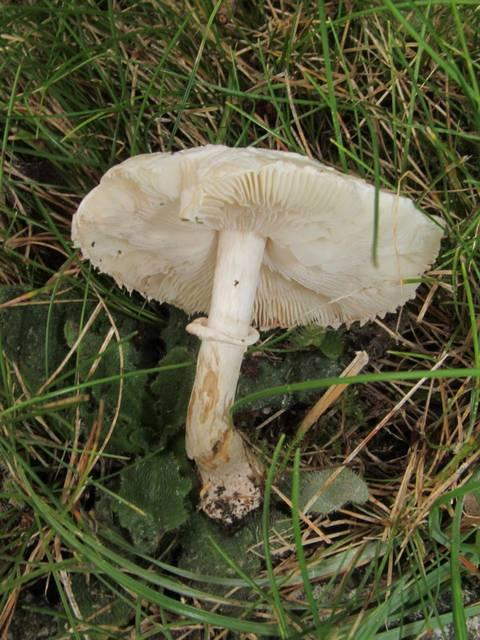Non-edible Mushroom: (69, 142, 446, 530)
